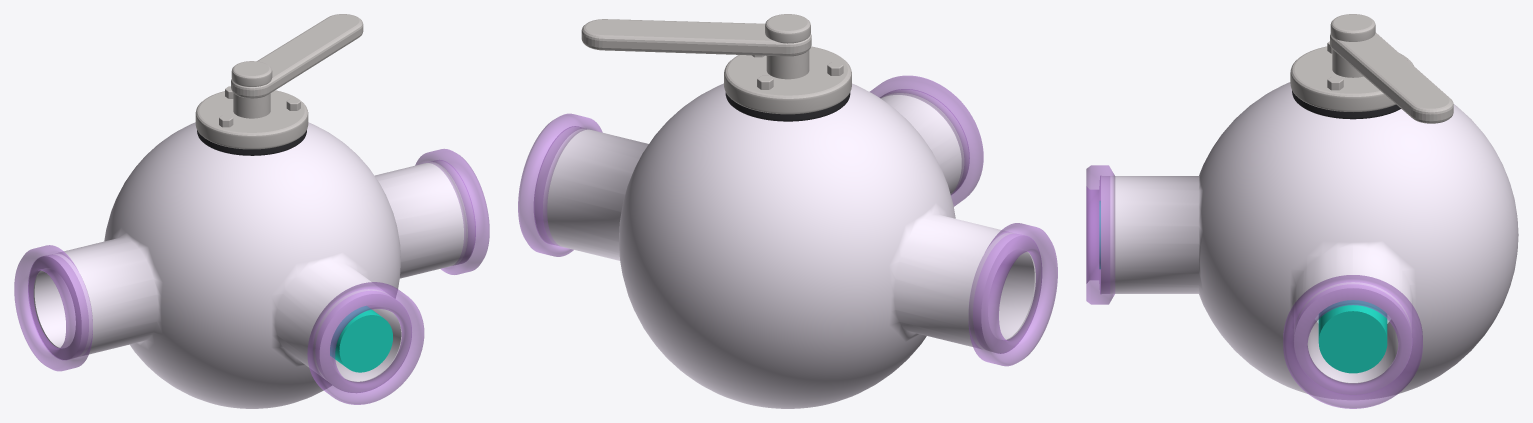
File: api-gateway-mapping.glb
The picture shows the model from 3 angles, left to right: view 1: azimuth 30°, elevation 25°; view 2: azimuth 150°, elevation 25°; view 3: azimuth 270°, elevation 25°; orthographic projection. The views are drawn at different scales.
Parts seen in each view (by area): view 1: Transparent three-port housing, Common inlet flange, Idle left outlet flange, Bonnet, Nickel selector lever, Selected right outlet flange, Selected inlet-to-right L passage, Pivot cap, Quarter-turn spindle, Bonnet gasket; view 2: Transparent three-port housing, Idle left outlet flange, Nickel selector lever, Bonnet, Selected right outlet flange, Common inlet flange, Pivot cap, Quarter-turn spindle, Bonnet gasket; view 3: Transparent three-port housing, Selected right outlet flange, Nickel selector lever, Selected inlet-to-right L passage, Common inlet flange, Bonnet, Pivot cap, Bonnet gasket, Quarter-turn spindle.
Part boxes in pixels (bbox=[...]): Transparent three-port housing: bbox=[29, 122, 474, 408]; Common inlet flange: bbox=[307, 282, 424, 404]; Idle left outlet flange: bbox=[14, 245, 92, 371]; Bonnet: bbox=[195, 90, 308, 149]; Nickel selector lever: bbox=[231, 14, 363, 98]; Selected right outlet flange: bbox=[415, 149, 489, 274]; Selected inlet-to-right L passage: bbox=[330, 306, 392, 372]; Pivot cap: bbox=[231, 61, 272, 86]; Quarter-turn spindle: bbox=[233, 93, 270, 118]; Bonnet gasket: bbox=[197, 130, 306, 155]; Transparent three-port housing: bbox=[535, 83, 1040, 408]; Idle left outlet flange: bbox=[968, 223, 1057, 366]; Nickel selector lever: bbox=[581, 19, 811, 56]; Bonnet: bbox=[724, 46, 851, 114]; Selected right outlet flange: bbox=[518, 113, 602, 256]; Common inlet flange: bbox=[870, 75, 983, 206]; Pivot cap: bbox=[765, 14, 810, 43]; Quarter-turn spindle: bbox=[766, 50, 809, 79]; Bonnet gasket: bbox=[725, 92, 850, 121]; Transparent three-port housing: bbox=[1101, 82, 1518, 399]; Selected right outlet flange: bbox=[1283, 275, 1422, 408]; Nickel selector lever: bbox=[1330, 32, 1453, 123]; Selected inlet-to-right L passage: bbox=[1099, 201, 1387, 373]; Common inlet flange: bbox=[1086, 165, 1114, 304]; Bonnet: bbox=[1290, 46, 1413, 111]; Pivot cap: bbox=[1330, 14, 1375, 41]; Bonnet gasket: bbox=[1292, 90, 1400, 119]; Quarter-turn spindle: bbox=[1332, 49, 1363, 77].
Bounding box in the file's own units: 3.32 × 2.49 × 2.69.
